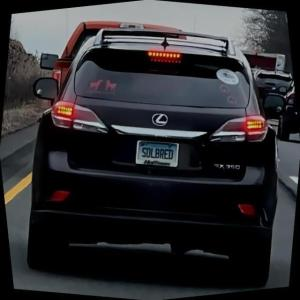Plate: (135, 140, 179, 167)
